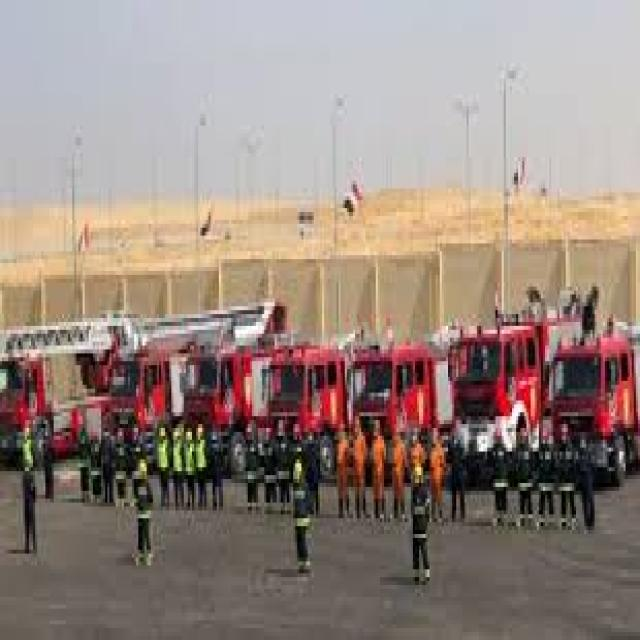pompier: (453, 324, 589, 462), (267, 343, 351, 480), (3, 352, 89, 463)
